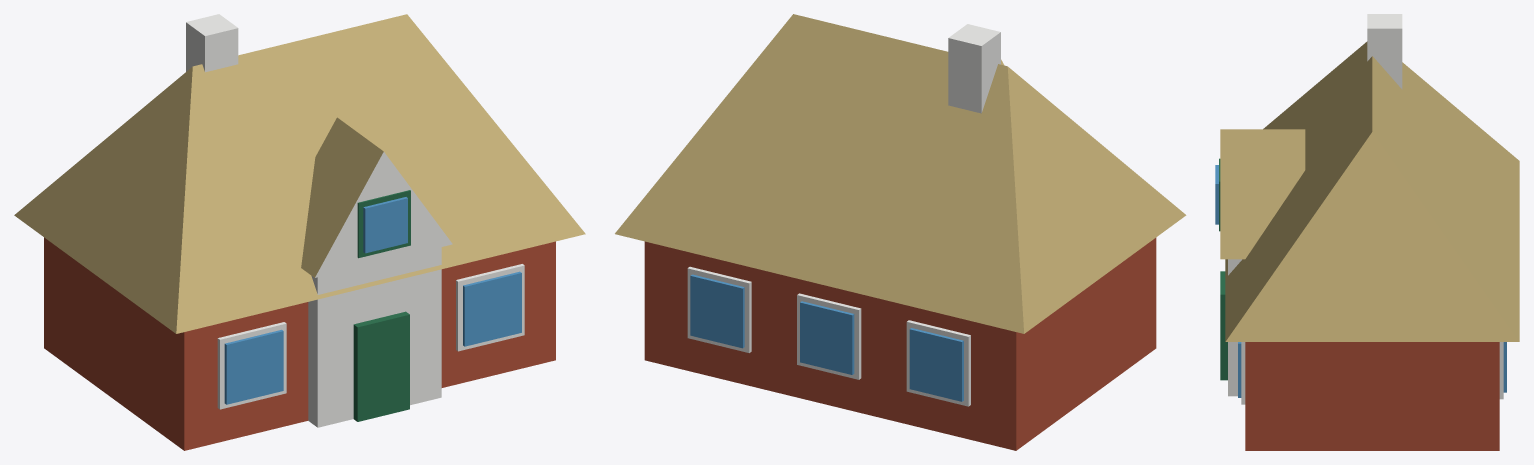
Rendered from 25_frisian_thatch_1.obj.
3 views of the same model, side by side, from view 1: azimuth 30°, elevation 25°; view 2: azimuth 150°, elevation 25°; view 3: azimuth 270°, elevation 25° (orthographic). The views are drawn at different scales.
Visible parts, largest first — view 1: 25_frisian_thatch_1; view 2: 25_frisian_thatch_1; view 3: 25_frisian_thatch_1.
Part boxes in pixels (x1,y1,x2,y2): 25_frisian_thatch_1: (14,14,585,450); 25_frisian_thatch_1: (615,14,1186,450); 25_frisian_thatch_1: (1215,14,1519,450).
Bounding box in the file's own units: 1.72 × 1.38 × 1.22.
